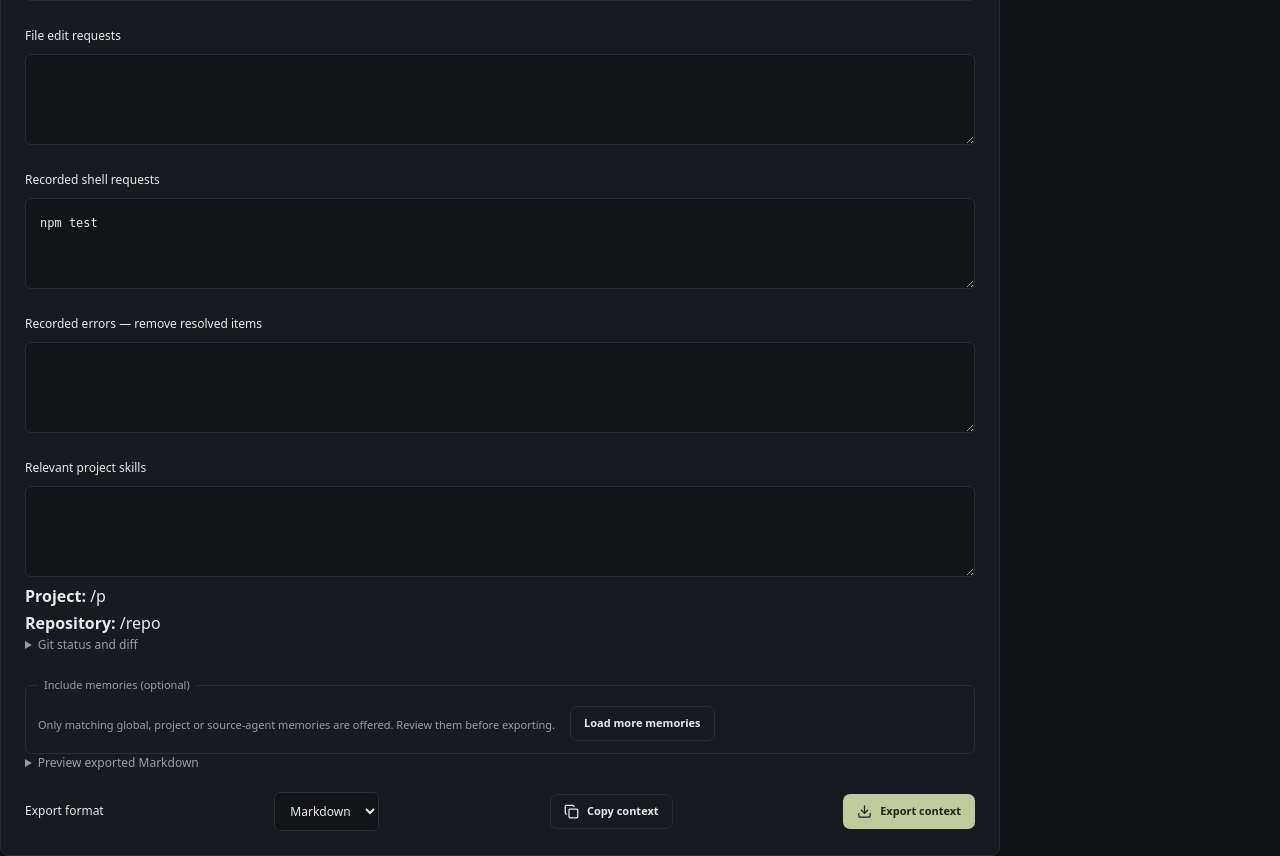
Test: offers matching memories from later pages without selecting them automatically
This screenshot has width=1280, height=856.
(page scrolled)
Click the button "Load more memories": (642, 723) [570, 706, 715, 741]
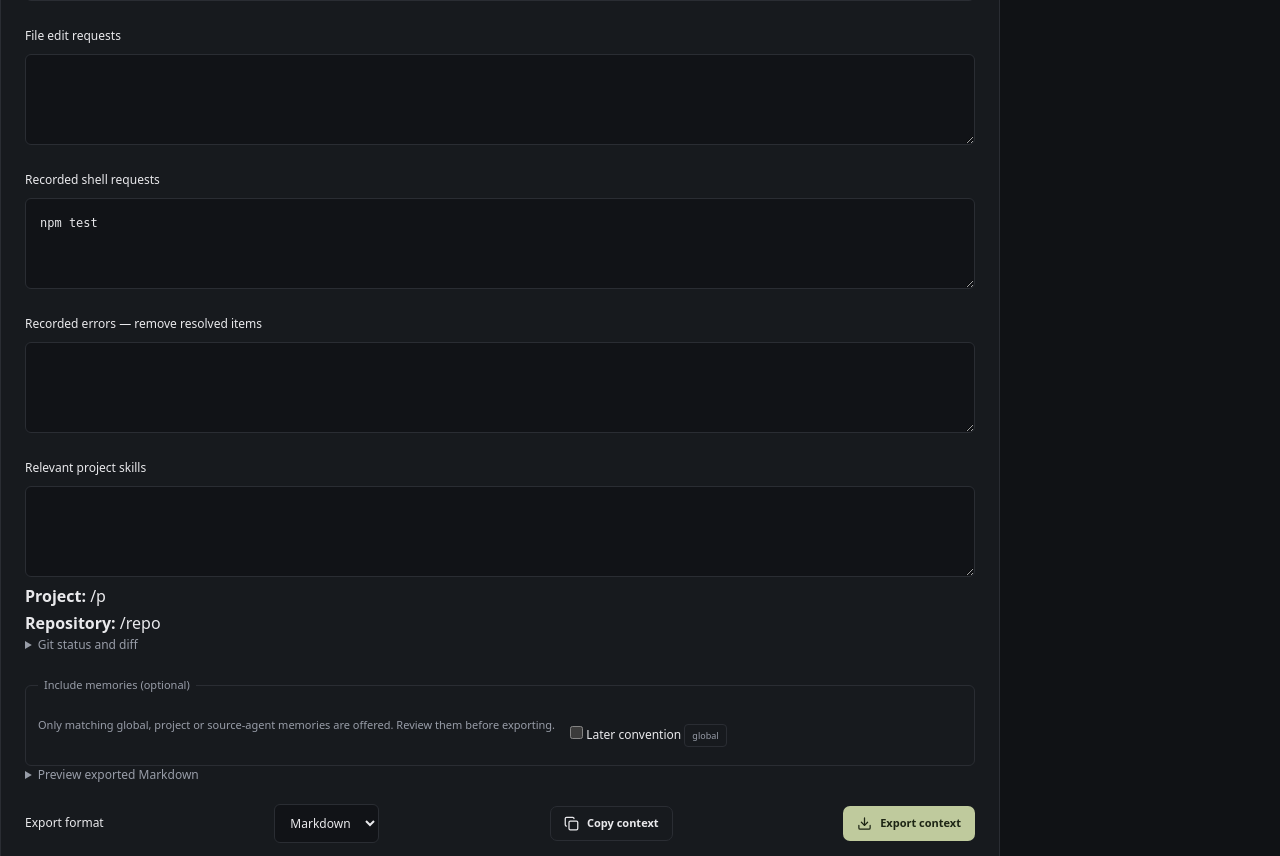
Check: the checkbox labelled "Later convention global" is not checked, box [570, 726, 583, 739]
Check: the button "Load more memories" is gone
